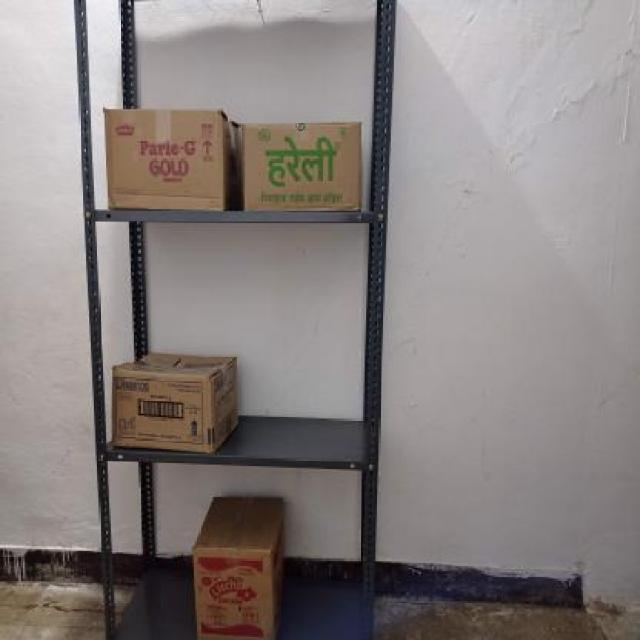box: (111, 111, 222, 212), (243, 124, 360, 212), (111, 369, 212, 451), (199, 551, 273, 640)
